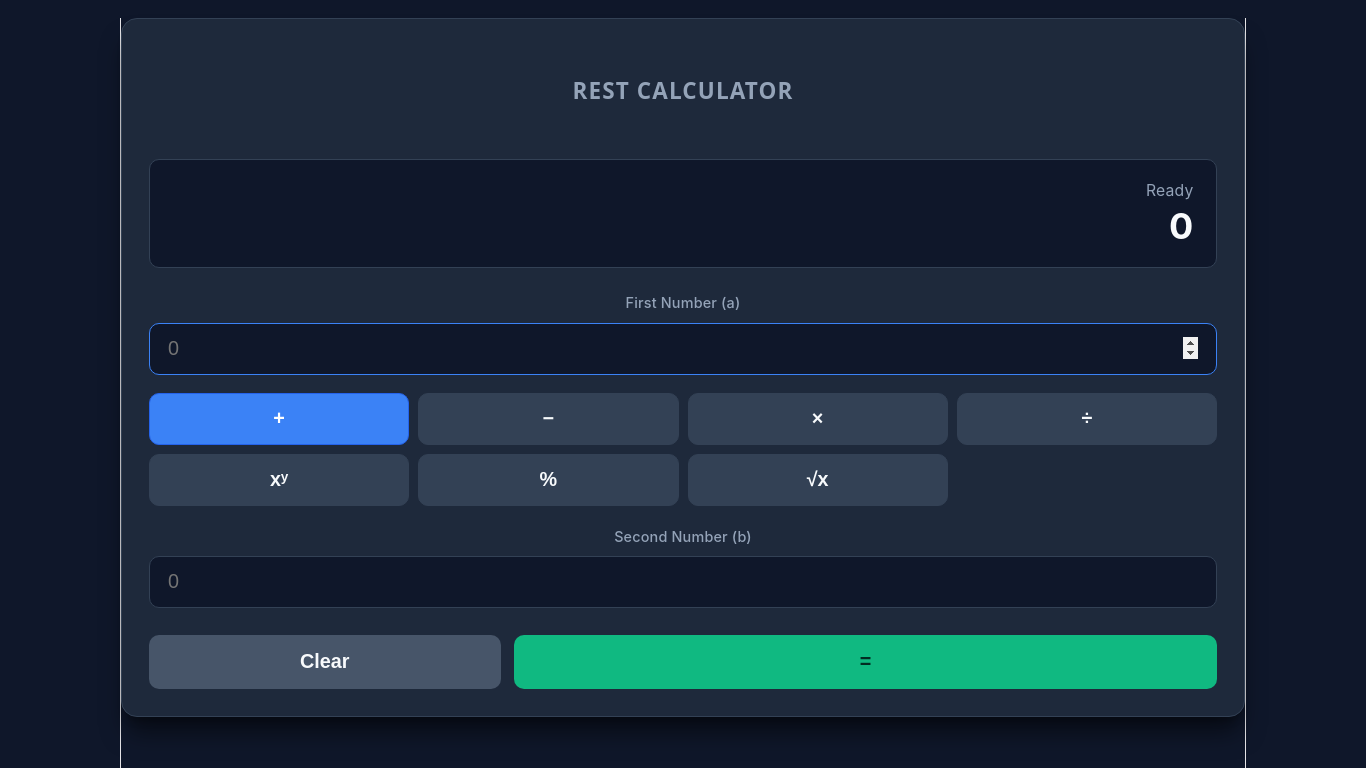
Calculator Component › performs successful addition workflow
Type "20" into the number field labelled "First Number (a)".
click(683, 349); type("20")  # box [149, 323, 1217, 375]
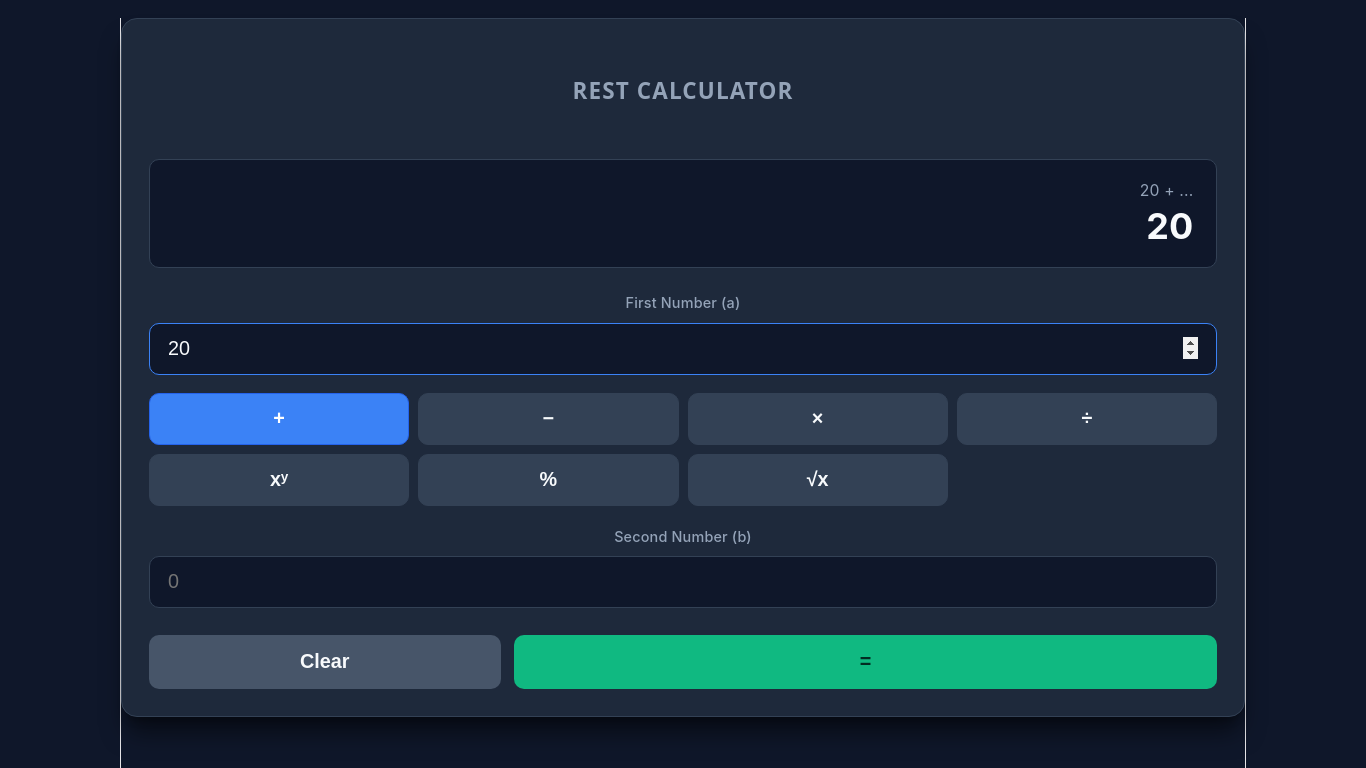
Type "22" into the number field labelled "Second Number (b)".
click(683, 582); type("22")  # box [149, 556, 1217, 608]
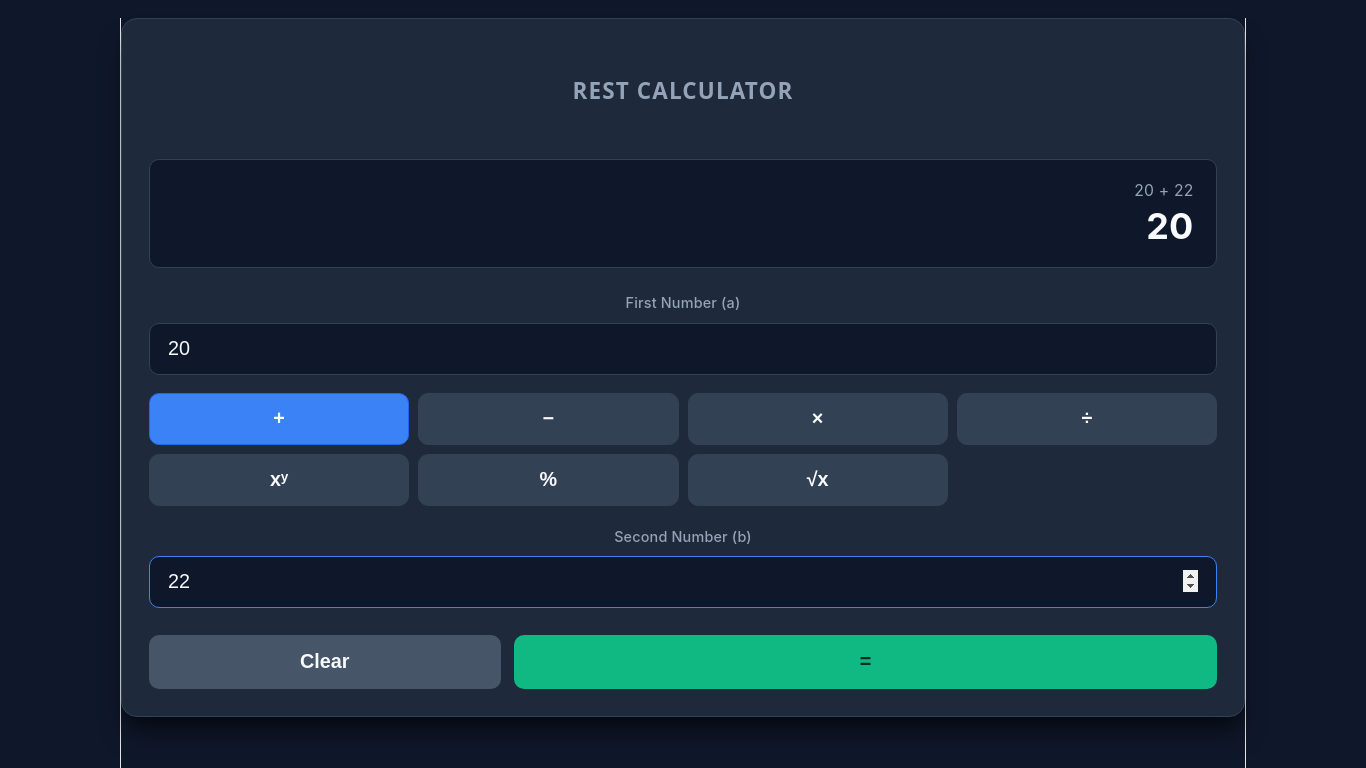
Click the button named "Calculate result".
click(866, 662)  # box [514, 635, 1217, 689]
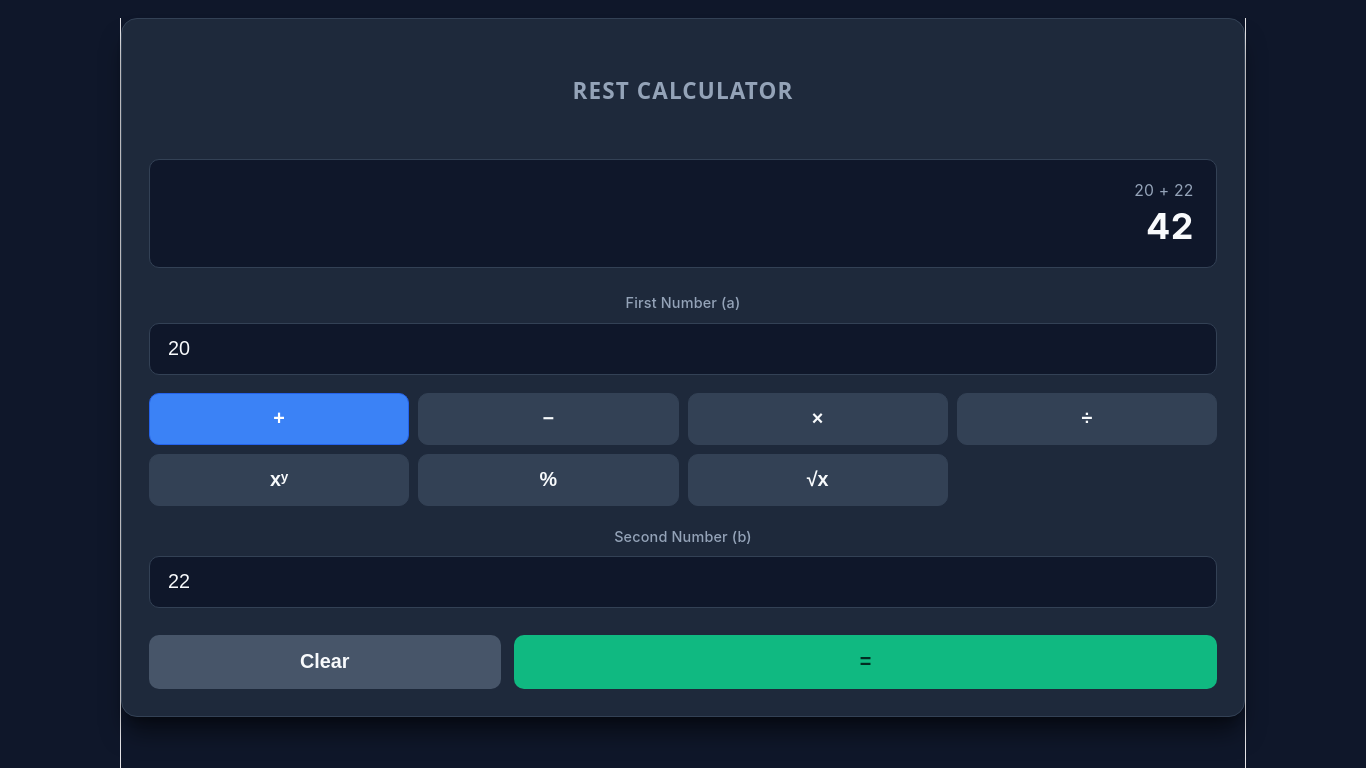
Expected: the text named "Result" reads "42", [1146, 204, 1194, 248]
